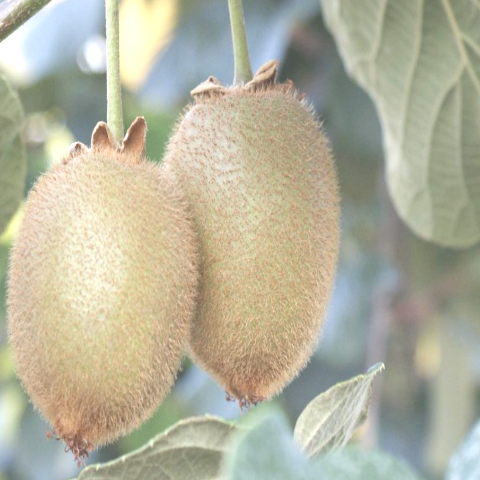kiwi: (148, 71, 359, 404), (8, 110, 201, 460)
